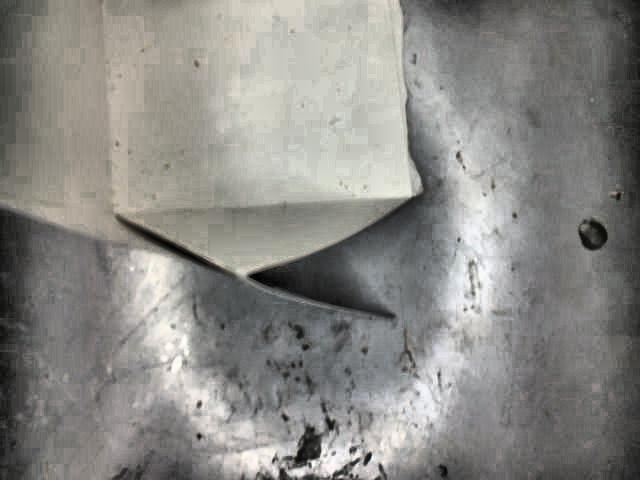Paper: (1, 0, 422, 316)
